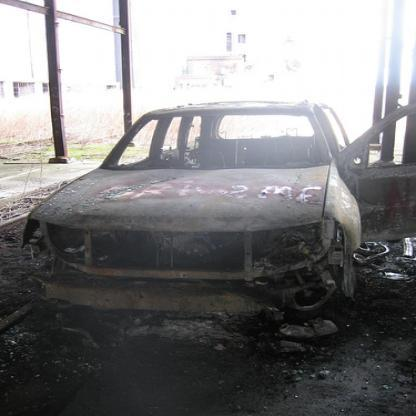car: (23, 97, 380, 351)
